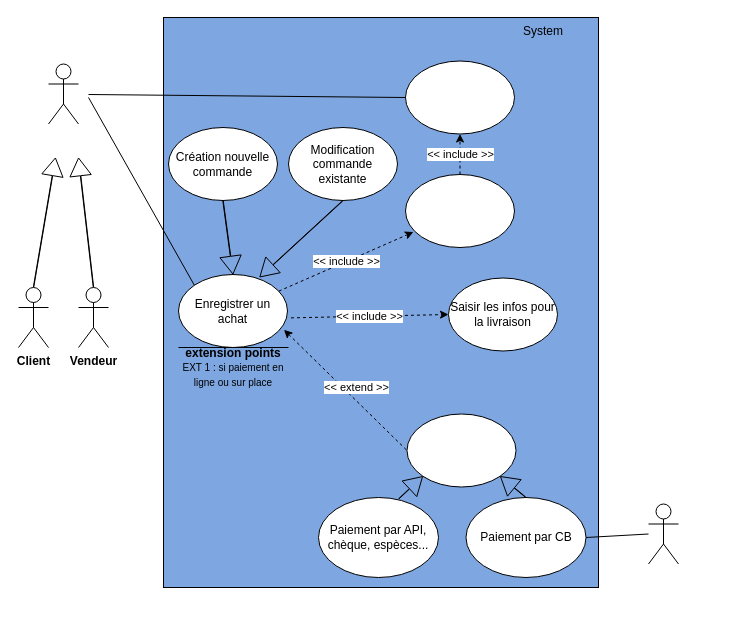
Image size: 732x631. Some labels were removed from this diagram. Here are the shapes that lost their labels. From the top down, the centre of each, then its label:
pixel 63 93: Acheteur
pixel 459 97: Consulter le catalogue
pixel 459 211: Constituer un panier
pixel 461 450: Procéder au paiement
pixel 663 533: <<Système>> Système bancaire
